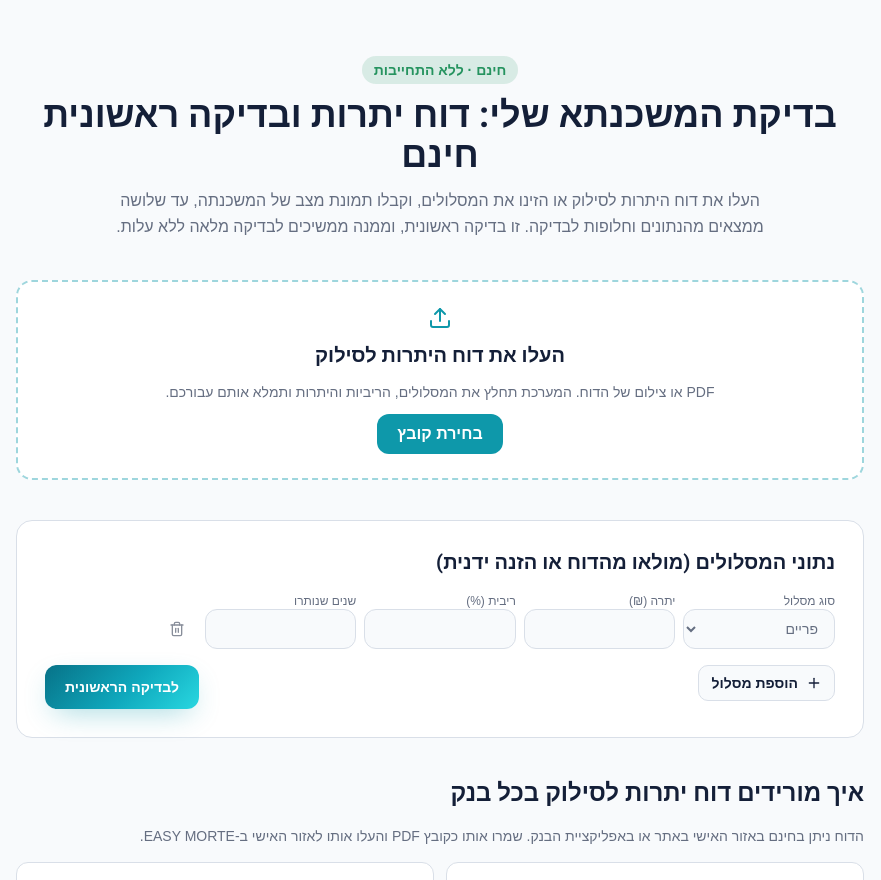
Test: BalanceCheckPage (#52) › good terms: flagged to keep, no saving claimed, still a free next step
Expected: the text "בחירת קובץ" is shown, x1=377 y1=414 x2=503 y2=454
In the number field labelled "יתרה (₪)": x=600, y=629 x1=524 y1=609 x2=675 y2=649, type "400000"
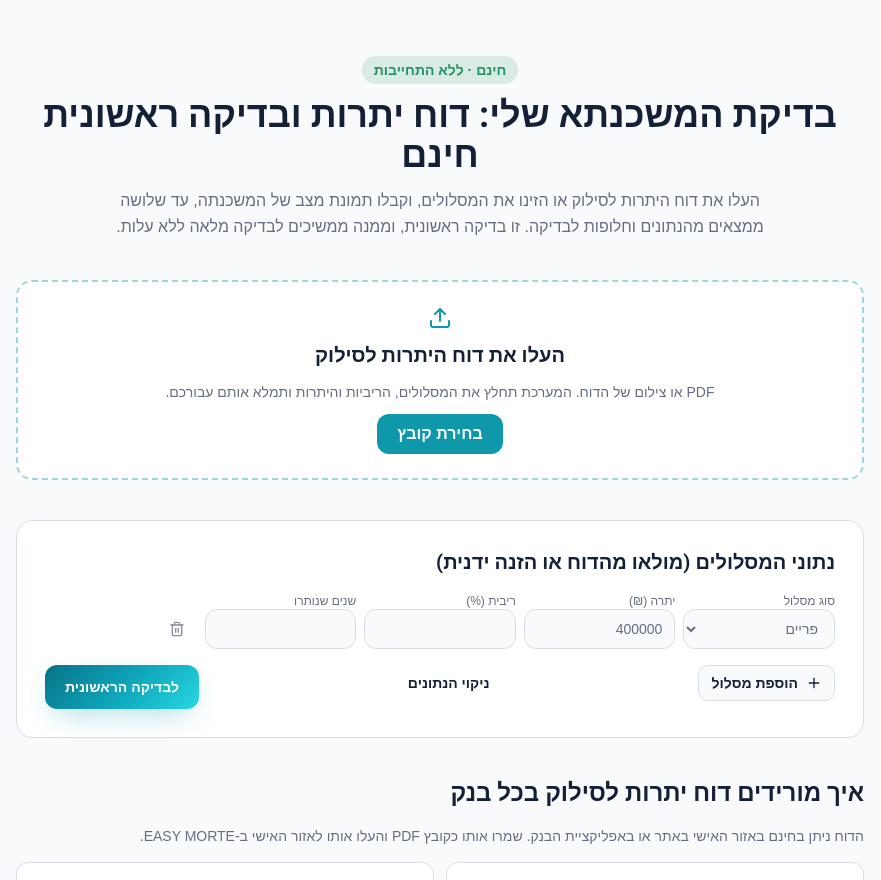
In the number field labelled "ריבית (%)": x=440, y=629 x1=364 y1=609 x2=516 y2=649, type "3.1"
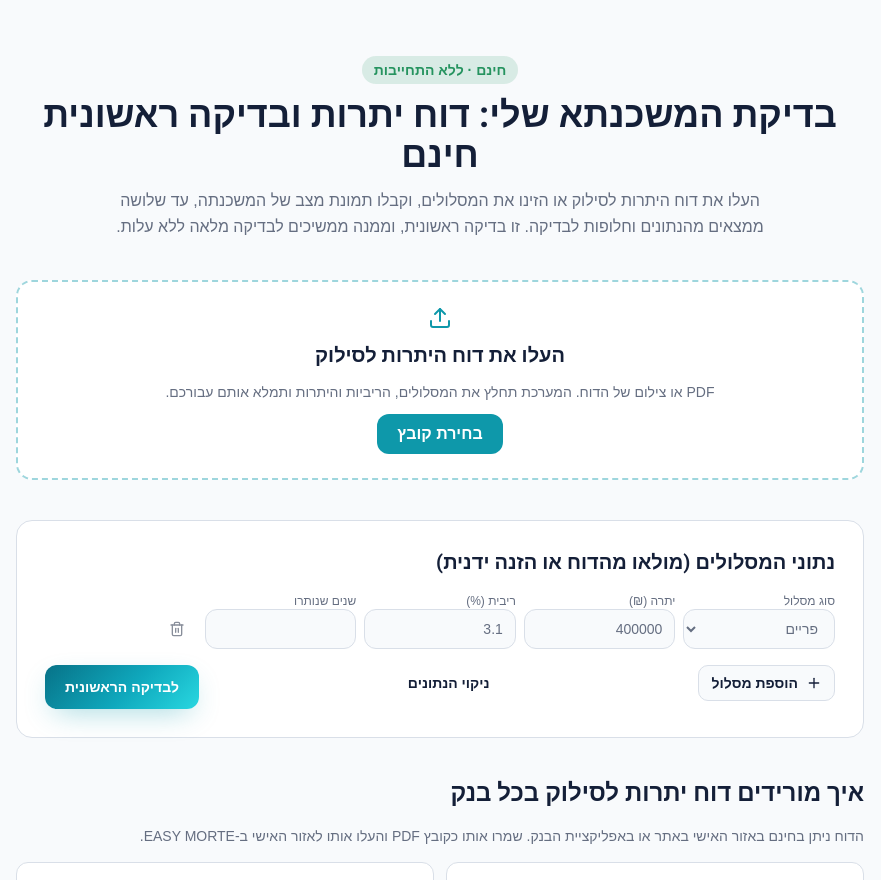
In the number field labelled "שנים שנותרו": x=280, y=629 x1=205 y1=609 x2=356 y2=649, type "15.5"
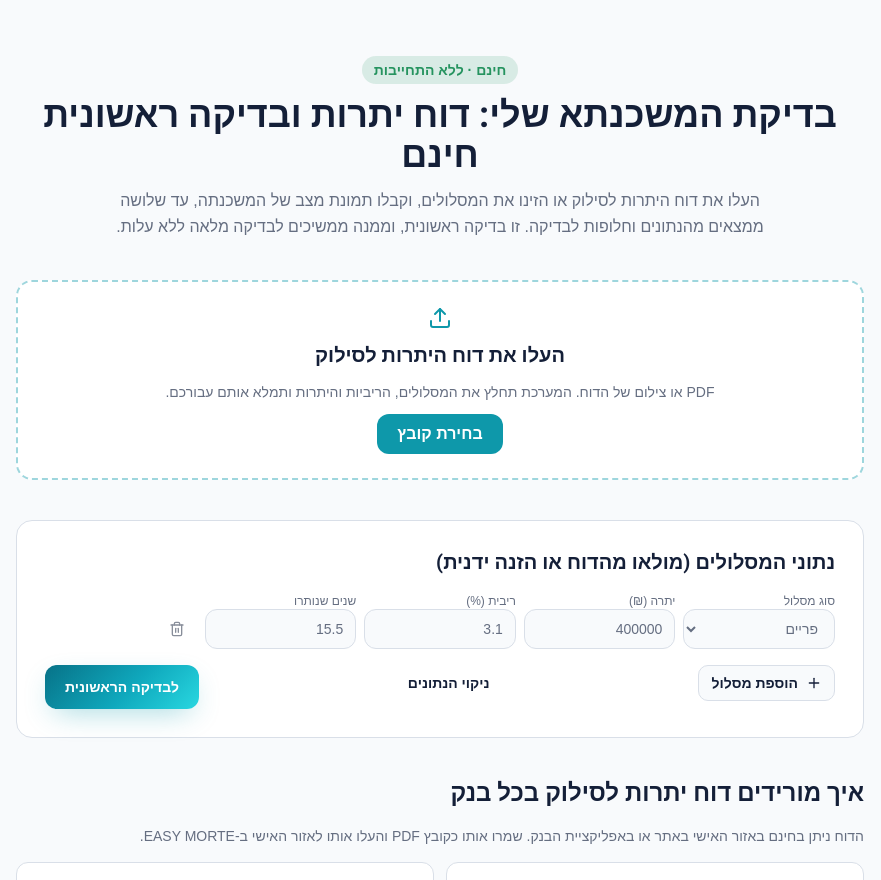
Click the button "לבדיקה הראשונית": x=122, y=687 x1=45 y1=665 x2=199 y2=709
(page scrolled)
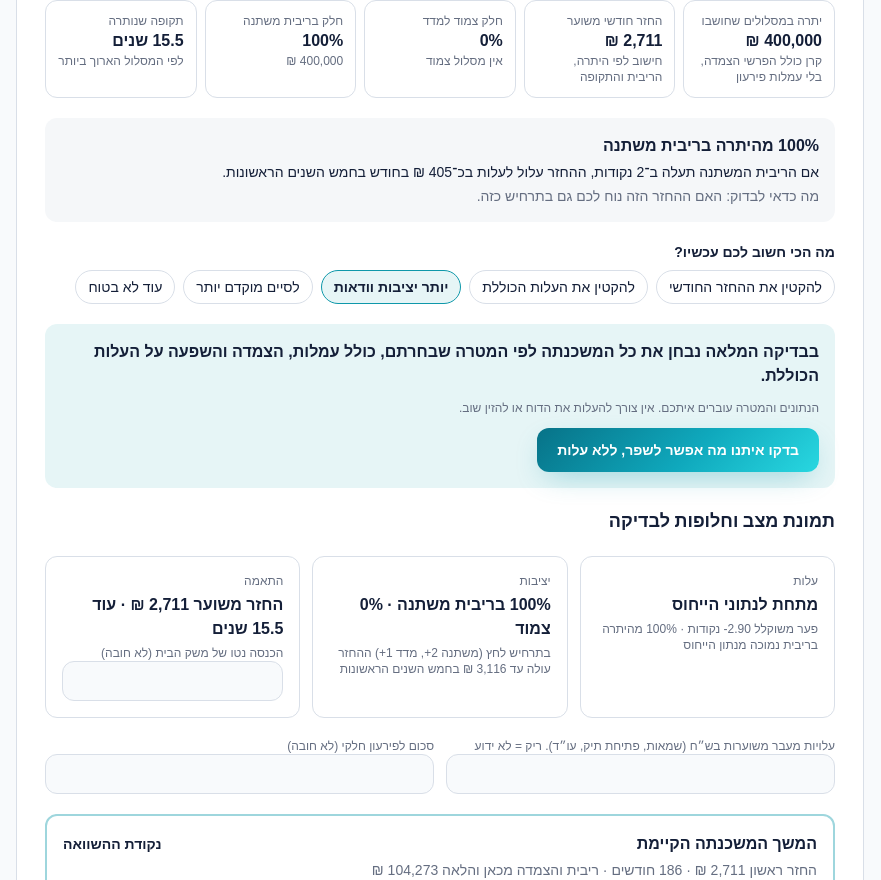
Expected: the button "בדקו איתנו מה אפשר לשפר, ללא עלות" is shown, x1=537 y1=428 x2=819 y2=472
